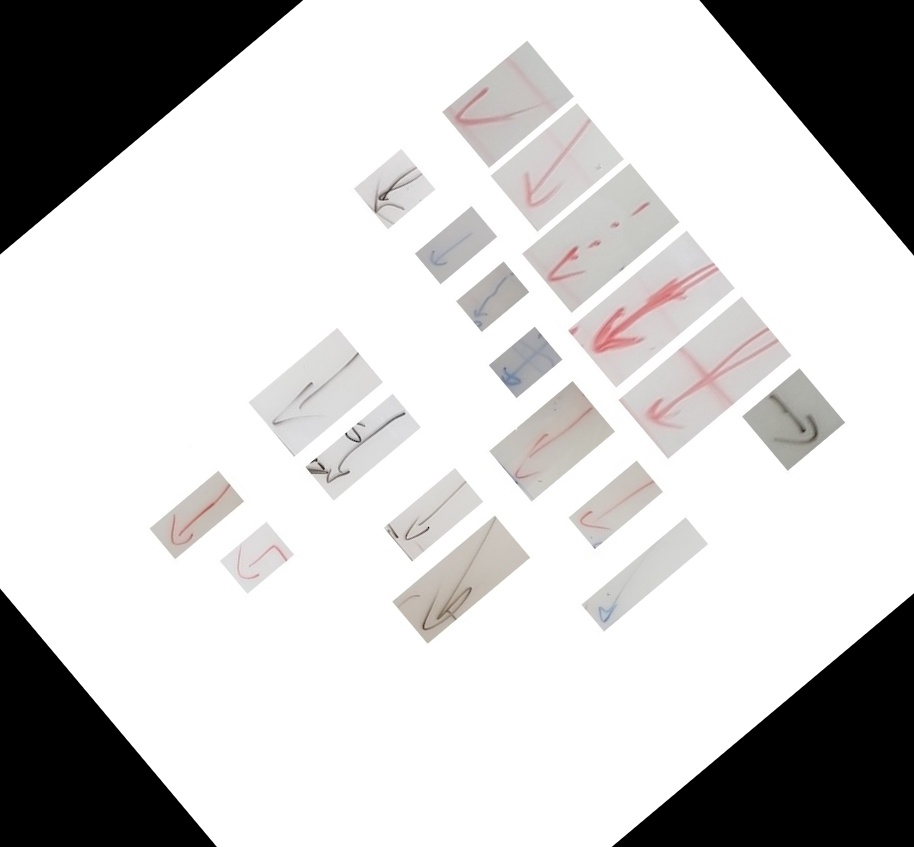arrow: (399, 138, 523, 252), (607, 411, 728, 513), (698, 450, 811, 555), (309, 229, 400, 313), (554, 360, 645, 436), (371, 630, 457, 703), (237, 443, 317, 511), (508, 299, 588, 366), (469, 493, 546, 557), (177, 608, 250, 675), (283, 500, 359, 564), (478, 221, 551, 283), (543, 558, 610, 614), (462, 407, 505, 484), (364, 571, 425, 622), (126, 573, 185, 622), (555, 653, 607, 697), (387, 306, 438, 348), (432, 359, 475, 396)
